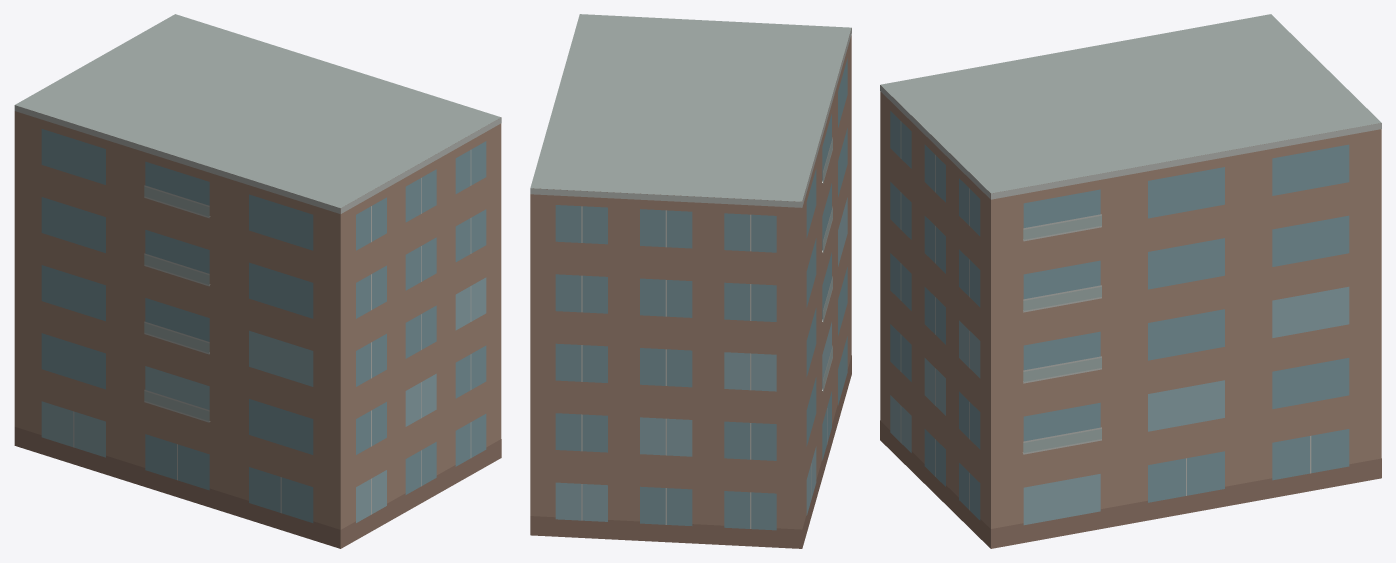
The model's file is survey-upis-32757851.glb.
3 renders of one model, left to right at view 1: azimuth 30°, elevation 25°; view 2: azimuth 150°, elevation 25°; view 3: azimuth 270°, elevation 25°, orthographic. The views are drawn at different scales.
Parts seen in each view (by area): view 1: survey-upis-32757851.tmp; view 2: survey-upis-32757851.tmp; view 3: survey-upis-32757851.tmp.
Boxes of the visible parts, bbox=[...] form: survey-upis-32757851.tmp: bbox=[14, 14, 501, 548]; survey-upis-32757851.tmp: bbox=[530, 14, 851, 548]; survey-upis-32757851.tmp: bbox=[880, 14, 1381, 548].
Bounding box in the file's own units: 15.17 × 14 × 17.92.
